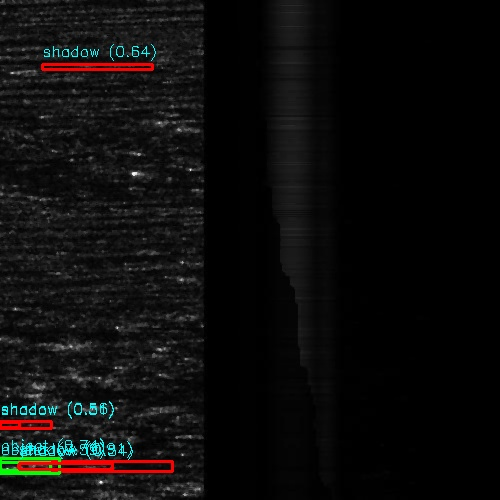rock: (0, 462, 49, 471)
shadow: (18, 462, 184, 471), (0, 462, 45, 481)
